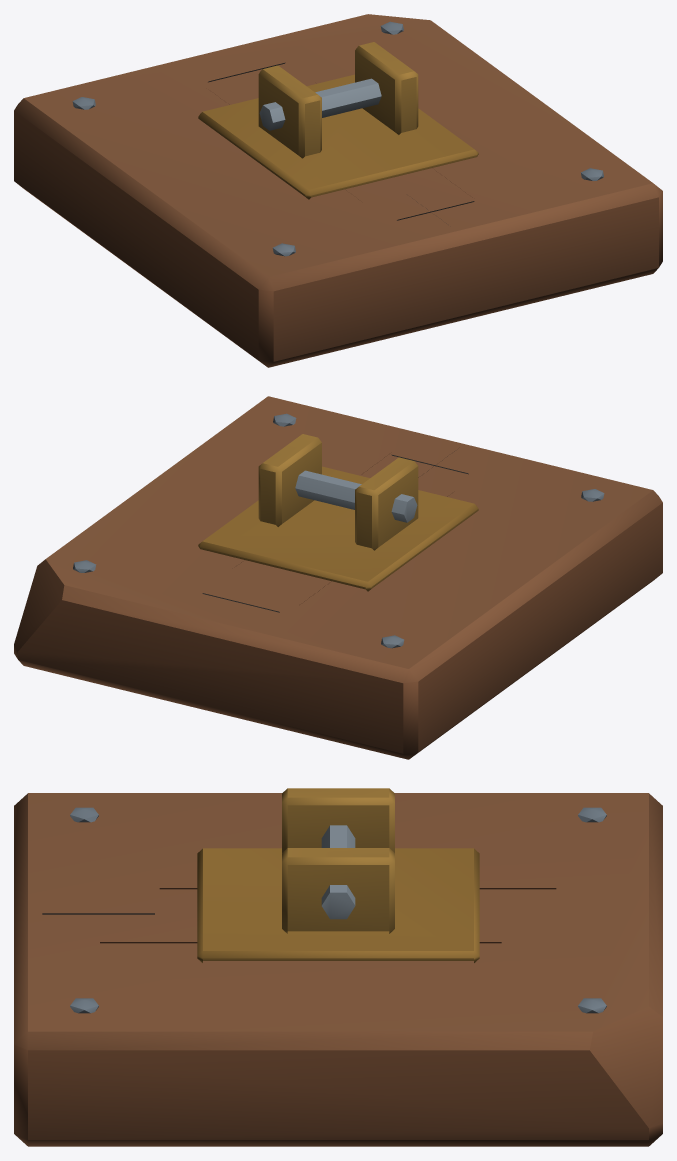
Rendered from ruins-pc-switch-low.glb.
3 views of the same model, one above another, from view 1: azimuth 30°, elevation 25°; view 2: azimuth 150°, elevation 25°; view 3: azimuth 270°, elevation 25° (orthographic). The views are drawn at different scales.
Visible parts, largest first — view 1: 0_ruins_pc_switch; view 2: 0_ruins_pc_switch; view 3: 0_ruins_pc_switch.
Part boxes in pixels (left/top/right/bottom): 0_ruins_pc_switch: left=14, top=14, right=662, bottom=367; 0_ruins_pc_switch: left=14, top=396, right=662, bottom=759; 0_ruins_pc_switch: left=14, top=788, right=662, bottom=1146.
Size of the model in its own units: 0.42 by 0.162 by 0.46.
